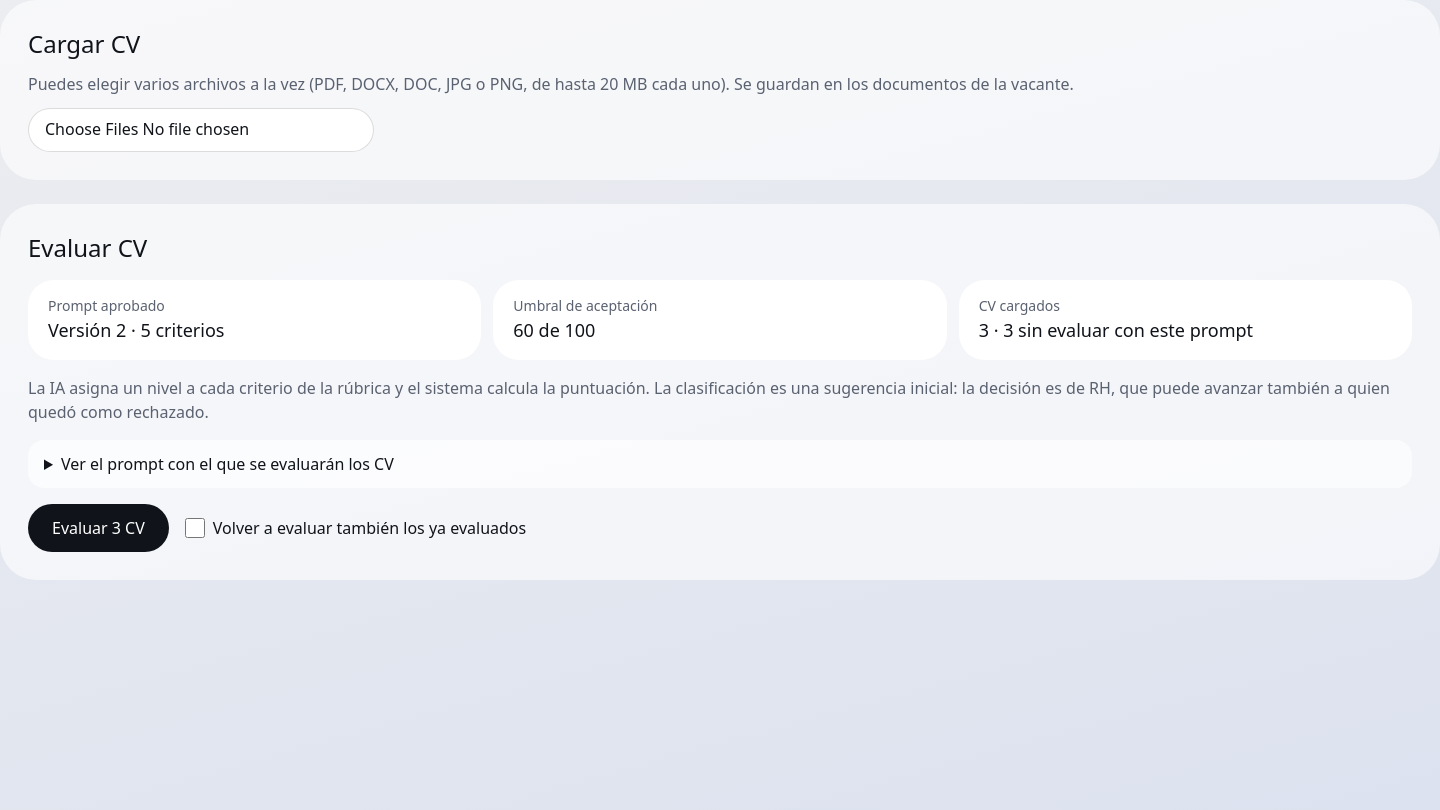
Scenario: CvEvaluationTab › deja ver el prompt completo con el que se evaluarán los CV
Click the heading "Ver el prompt con el que se evaluarán los CV".
click(227, 464)  # box [61,453,394,475]
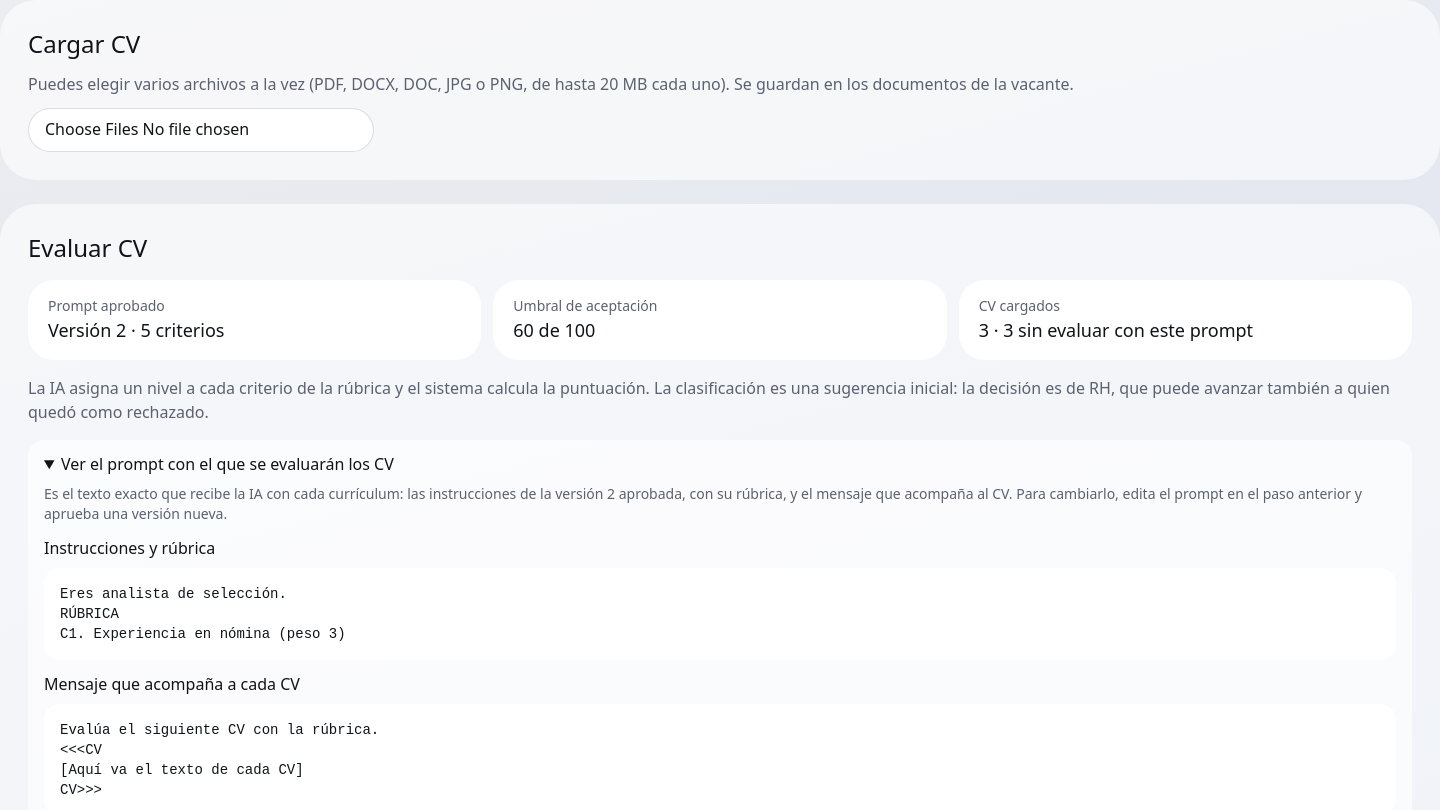
expect the text named "Instrucciones y rúbrica" shows "C1. Experiencia en nómina (peso 3)": met, box [60,586,346,642]
expect the text named "Mensaje que acompaña a cada CV" shows "[Aquí va el texto de cada CV]": met, box [60,722,379,798]
expect the text "las instrucciones de la versión 2 aprobada" is shown: met, box [44,484,1396,524]
